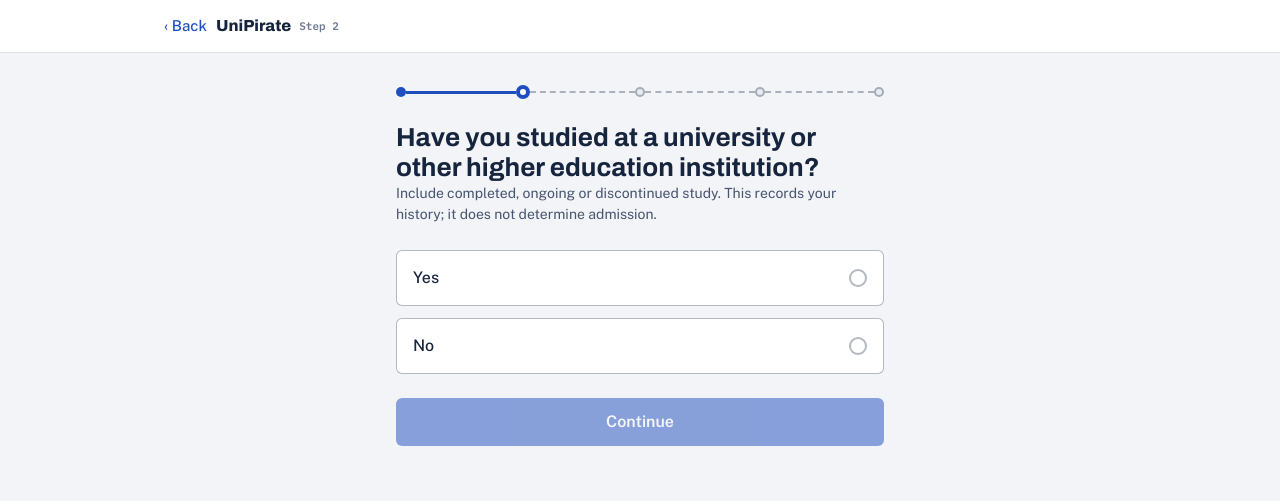
degree links isolate drafts and refresh follows an explicitly edited degree
This screenshot has width=1280, height=501.
Click the button "‹ Back" at (186, 26), box [164,4,208,48]
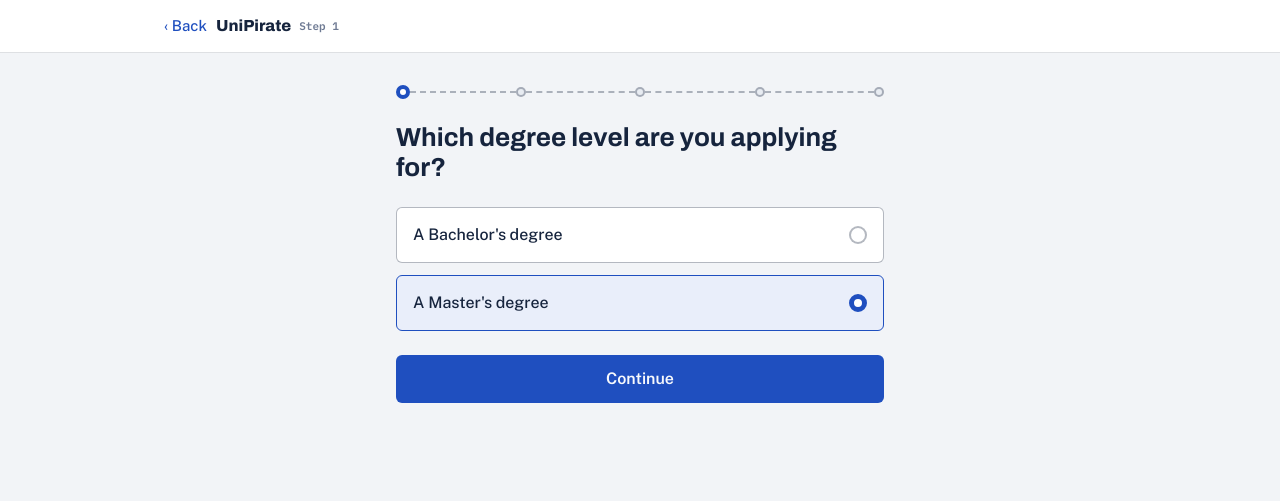
Click the button "A Bachelor's degree" at (488, 234), box [396,207,884,263]
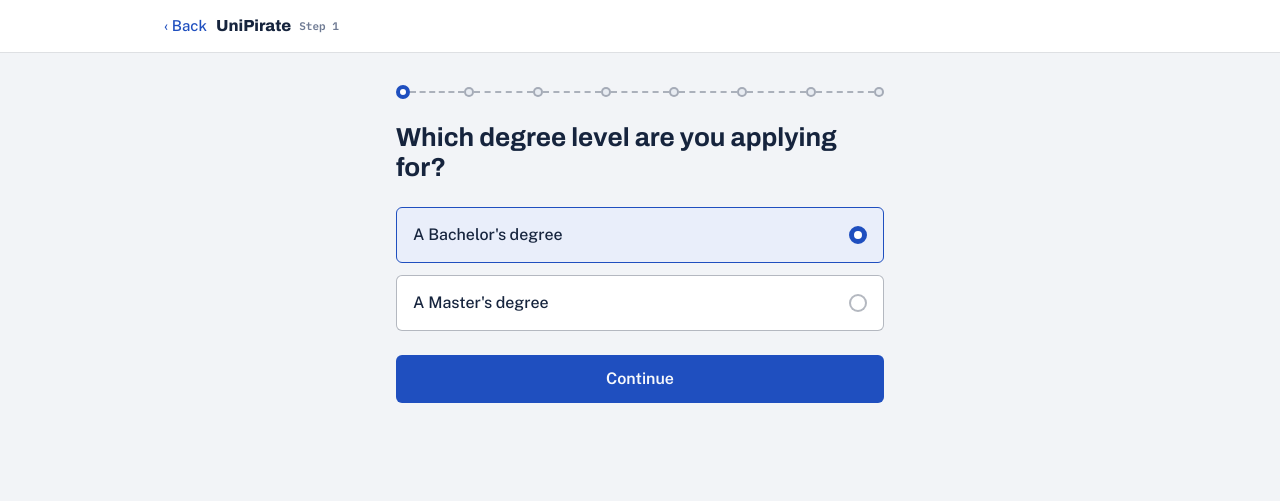
Click the button "Continue" at (640, 379), box [396,355,884,403]
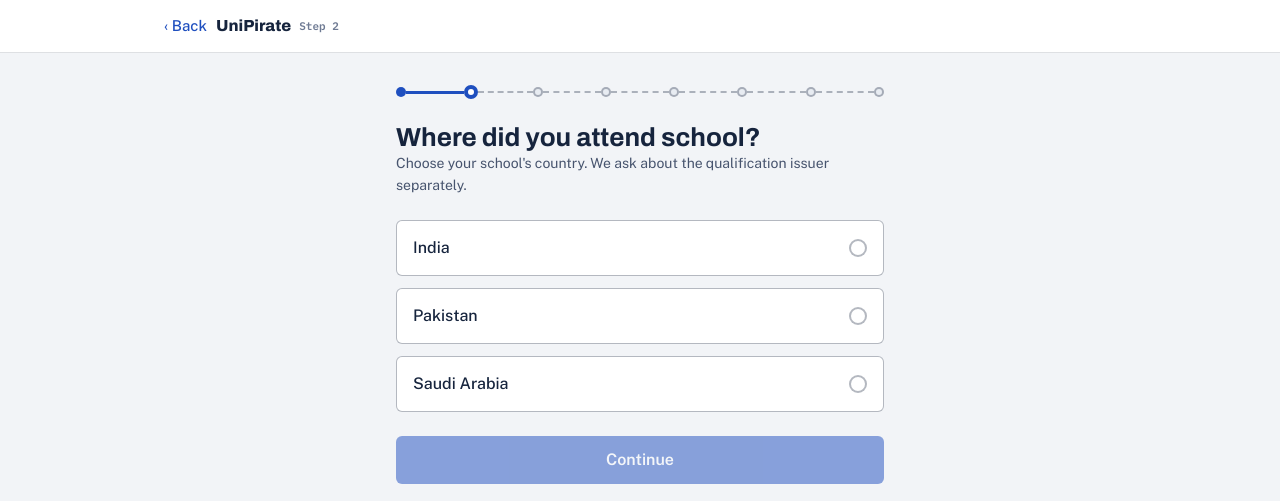
Expected: the heading "Where did you attend school?" is shown, [396,123,761,151]
